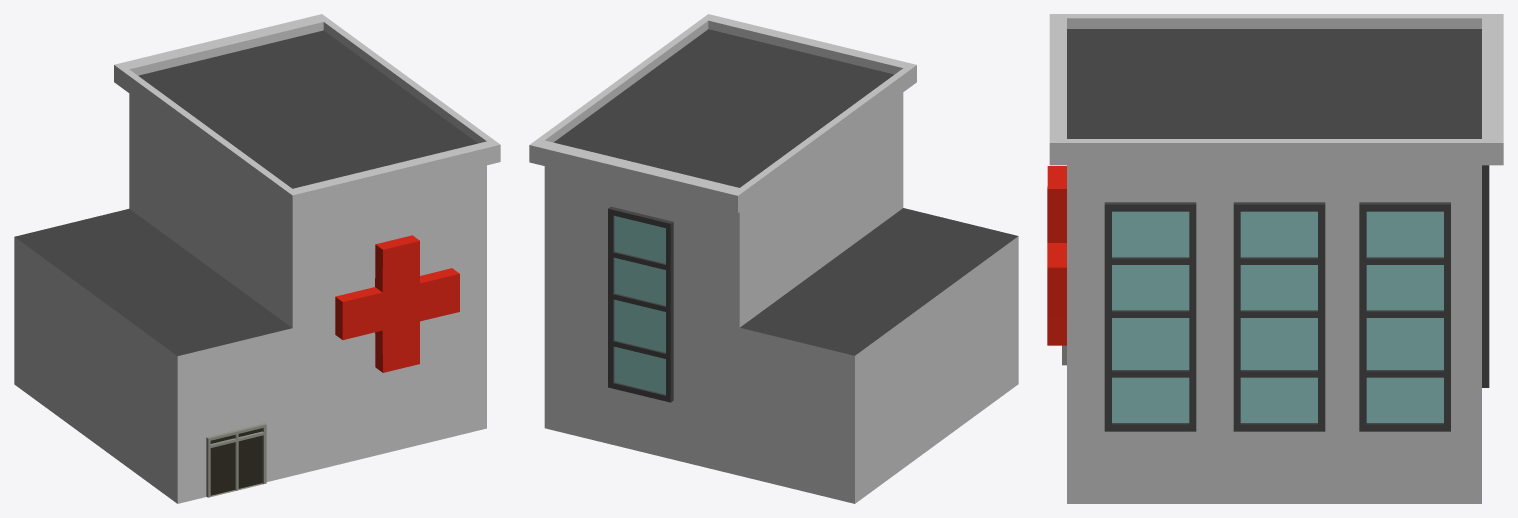
File: hastane.fbx
3 renders of one model, left to right at view 1: azimuth 30°, elevation 25°; view 2: azimuth 150°, elevation 25°; view 3: azimuth 270°, elevation 25°, orthographic. The views are drawn at different scales.
Parts seen in each view (by area): view 1: hospital; view 2: hospital; view 3: hospital.
Part boxes in pixels (x1=…): hospital: x1=14, y1=14, x2=500, y2=503; hospital: x1=529, y1=14, x2=1018, y2=503; hospital: x1=1047, y1=14, x2=1503, y2=503.
Size of the model in its own units: 805 by 698 by 791.
